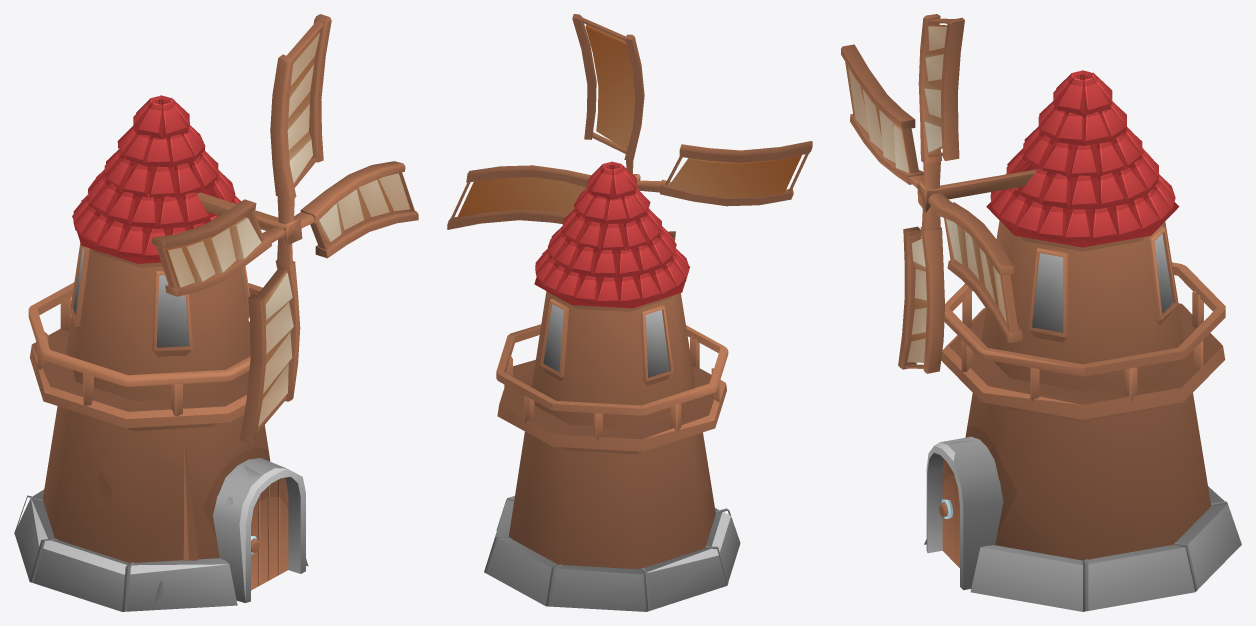
Rendered from towerlv3.glb.
3 views of the same model, side by side, from view 1: azimuth 30°, elevation 25°; view 2: azimuth 150°, elevation 25°; view 3: azimuth 270°, elevation 25° (orthographic). The views are drawn at different scales.
Parts seen in each view (by area): view 1: towerlv3, Cube.012, Cube.004; view 2: towerlv3, Cube.012; view 3: towerlv3, Cube.012, Cube.004.
Part boxes in pixels (bbox=[...]): towerlv3: bbox=[14, 95, 308, 611]; Cube.012: bbox=[152, 14, 418, 442]; Cube.004: bbox=[196, 192, 302, 245]; towerlv3: bbox=[484, 161, 740, 611]; Cube.012: bbox=[447, 14, 812, 240]; towerlv3: bbox=[924, 70, 1241, 611]; Cube.012: bbox=[841, 14, 1022, 373]; Cube.004: bbox=[917, 169, 1037, 212].
Bounding box in the file's own units: 4.95 × 7.39 × 4.65.
1 material, 1 textured.
